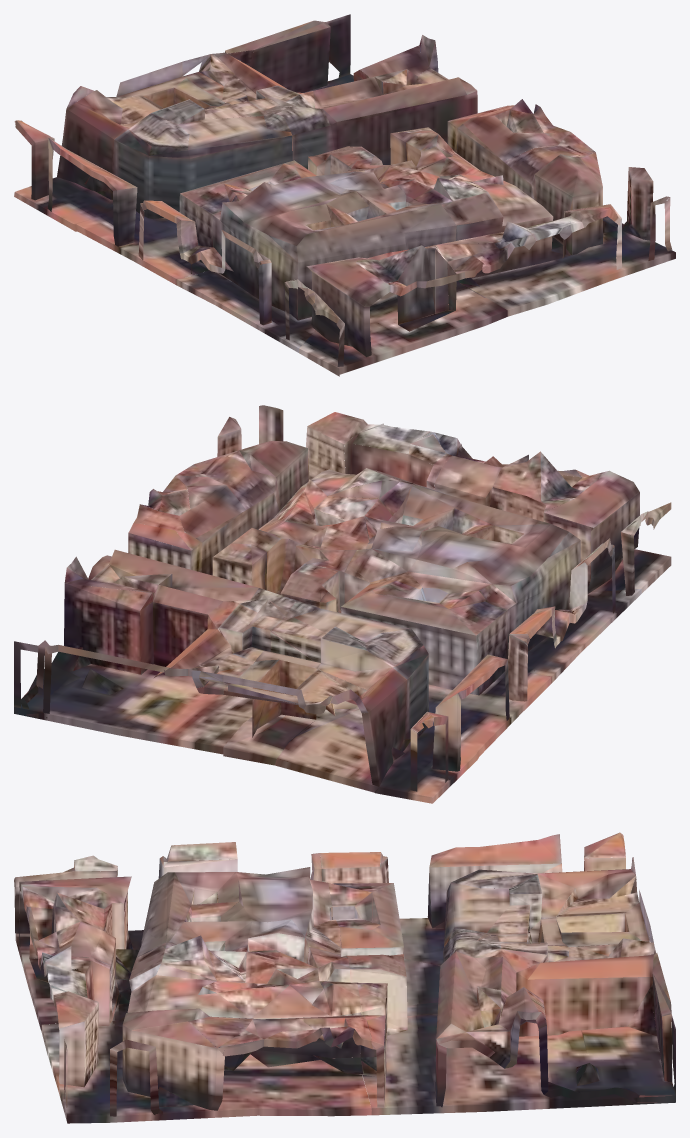
3 renders of one model, top to bottom at view 1: azimuth 30°, elevation 25°; view 2: azimuth 150°, elevation 25°; view 3: azimuth 270°, elevation 25°, orthographic. The views are drawn at different scales.
Visible parts, largest first — view 1: Mesh_0; view 2: Mesh_0; view 3: Mesh_0.
Part boxes in pixels (box(x1,y1,x2,y2)): Mesh_0: box(14, 14, 675, 376); Mesh_0: box(14, 405, 671, 803); Mesh_0: box(14, 832, 675, 1123).
Bounding box in the file's own units: 133 × 30.87 × 165.
Materials: 2 (2 with a texture image).
